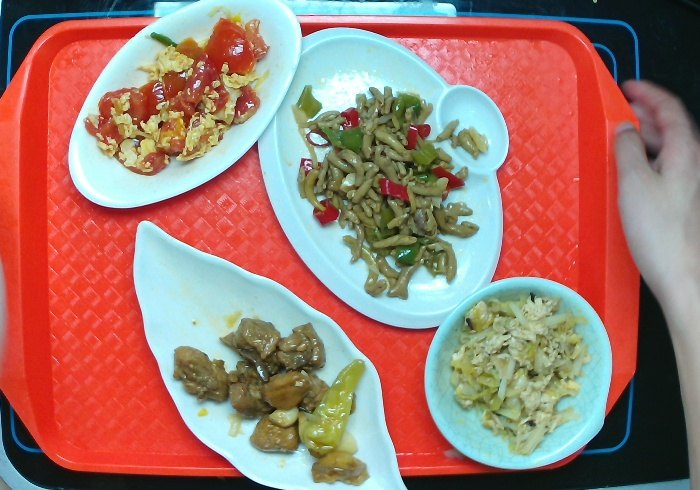RJxy-Bai_Se_Tuo_Yuan: (63, 1, 307, 211)
RJxy-Shu_Ye_Pan: (131, 221, 410, 490)
RJxy-Xiao_Jiao_Yuan_Wan: (421, 274, 616, 472)
RJxy-Zhan_Liao_Pan: (254, 24, 514, 329)
